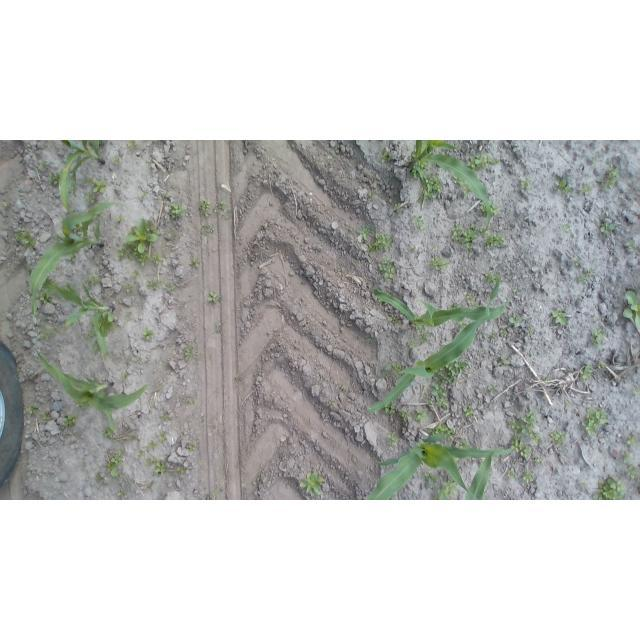Maize: (369, 275, 500, 413), (30, 202, 127, 334), (35, 335, 150, 432), (360, 433, 515, 500), (24, 259, 116, 362), (408, 140, 493, 245), (371, 288, 509, 333), (421, 446, 503, 500), (60, 140, 107, 216)
Weeds: (118, 219, 163, 266), (430, 356, 467, 409), (508, 411, 542, 445), (580, 407, 608, 437), (593, 476, 625, 500), (298, 471, 326, 496), (89, 310, 115, 336), (623, 291, 640, 330), (509, 434, 532, 460), (422, 172, 443, 200), (450, 225, 479, 244), (427, 422, 456, 440), (368, 232, 393, 252), (106, 452, 123, 481), (434, 480, 458, 500), (465, 154, 491, 172), (14, 230, 36, 251), (407, 160, 430, 180), (453, 174, 472, 195), (602, 167, 619, 190), (379, 257, 396, 279), (357, 223, 376, 242), (480, 201, 501, 217), (549, 429, 567, 447), (168, 201, 186, 219), (428, 256, 450, 270), (61, 413, 79, 430), (484, 234, 504, 249), (590, 329, 606, 347), (36, 288, 53, 304), (412, 214, 427, 232), (551, 309, 567, 325), (554, 179, 572, 193), (577, 268, 595, 282), (424, 471, 438, 488), (509, 313, 524, 327), (624, 466, 640, 479), (600, 223, 616, 236), (156, 458, 167, 476), (93, 180, 107, 194), (184, 345, 197, 360), (579, 365, 592, 380), (48, 172, 60, 187), (96, 473, 108, 488), (40, 329, 57, 339), (214, 200, 227, 213), (414, 409, 427, 422), (198, 199, 210, 213), (384, 399, 396, 413), (63, 281, 77, 293), (141, 328, 153, 341), (102, 427, 115, 439), (75, 401, 90, 411), (26, 403, 38, 415), (485, 272, 496, 285), (523, 470, 534, 483), (398, 410, 411, 421), (86, 275, 99, 286), (458, 320, 469, 333), (388, 432, 398, 446), (92, 339, 101, 354), (85, 192, 96, 204), (626, 435, 638, 446), (519, 180, 530, 191), (419, 332, 430, 343), (208, 291, 219, 302), (623, 453, 634, 464), (392, 363, 402, 375), (463, 405, 473, 417), (381, 152, 392, 162), (189, 257, 199, 268), (147, 281, 157, 292), (71, 224, 83, 233), (189, 440, 198, 452), (158, 430, 167, 442), (126, 141, 138, 150), (460, 440, 472, 449), (203, 225, 213, 235), (487, 386, 497, 396), (466, 293, 475, 304), (380, 367, 388, 378), (408, 341, 419, 349), (501, 356, 512, 364), (163, 284, 175, 291), (582, 186, 591, 195), (465, 243, 474, 252), (370, 452, 379, 461), (388, 316, 398, 324), (41, 412, 51, 420), (112, 155, 120, 165), (147, 439, 155, 449), (526, 327, 534, 337), (562, 223, 570, 233), (507, 470, 515, 479), (124, 284, 132, 293), (38, 161, 47, 169), (178, 466, 187, 474), (597, 362, 606, 370), (489, 330, 497, 339), (69, 252, 76, 262), (625, 242, 636, 248), (140, 190, 148, 198), (115, 214, 123, 222), (388, 492, 396, 500), (480, 226, 488, 234), (450, 303, 459, 310), (146, 458, 153, 467), (118, 490, 127, 497), (161, 415, 170, 422), (409, 246, 416, 254), (395, 203, 402, 211), (369, 190, 376, 198), (86, 177, 93, 185), (579, 482, 587, 489), (501, 326, 508, 334), (412, 147, 417, 158), (492, 158, 501, 164), (212, 489, 221, 495), (514, 286, 523, 292), (533, 458, 543, 463), (473, 302, 480, 309), (633, 388, 640, 395), (574, 259, 581, 266), (155, 279, 161, 287), (130, 271, 138, 277), (162, 193, 171, 198), (453, 457, 460, 463), (3, 201, 9, 208), (188, 398, 195, 404), (121, 375, 127, 382), (420, 385, 425, 392), (365, 339, 372, 344), (85, 335, 92, 340), (544, 377, 552, 381), (378, 297, 383, 303), (329, 402, 334, 408), (431, 246, 438, 250), (236, 374, 240, 381), (317, 382, 322, 387), (82, 464, 87, 469), (226, 214, 231, 219), (136, 359, 141, 364), (566, 402, 571, 407), (592, 161, 597, 165), (254, 370, 259, 374), (340, 386, 344, 390), (373, 176, 377, 180), (328, 157, 333, 160), (579, 294, 582, 299), (177, 279, 181, 282), (171, 185, 175, 188)
